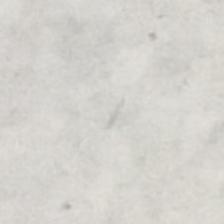Non_Crack: (28, 25, 224, 183)
